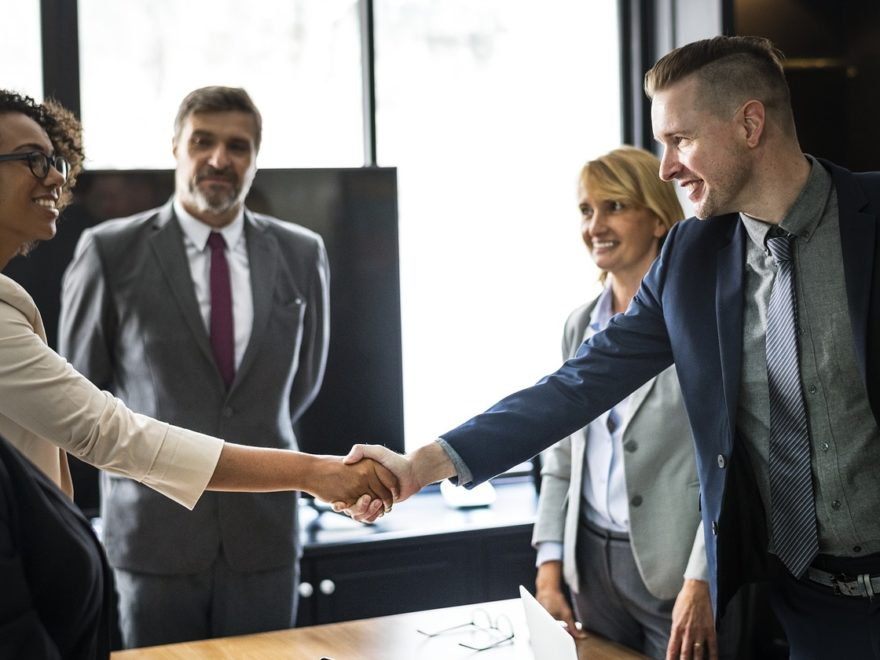Person: (396, 42, 852, 625), (100, 90, 326, 582)
